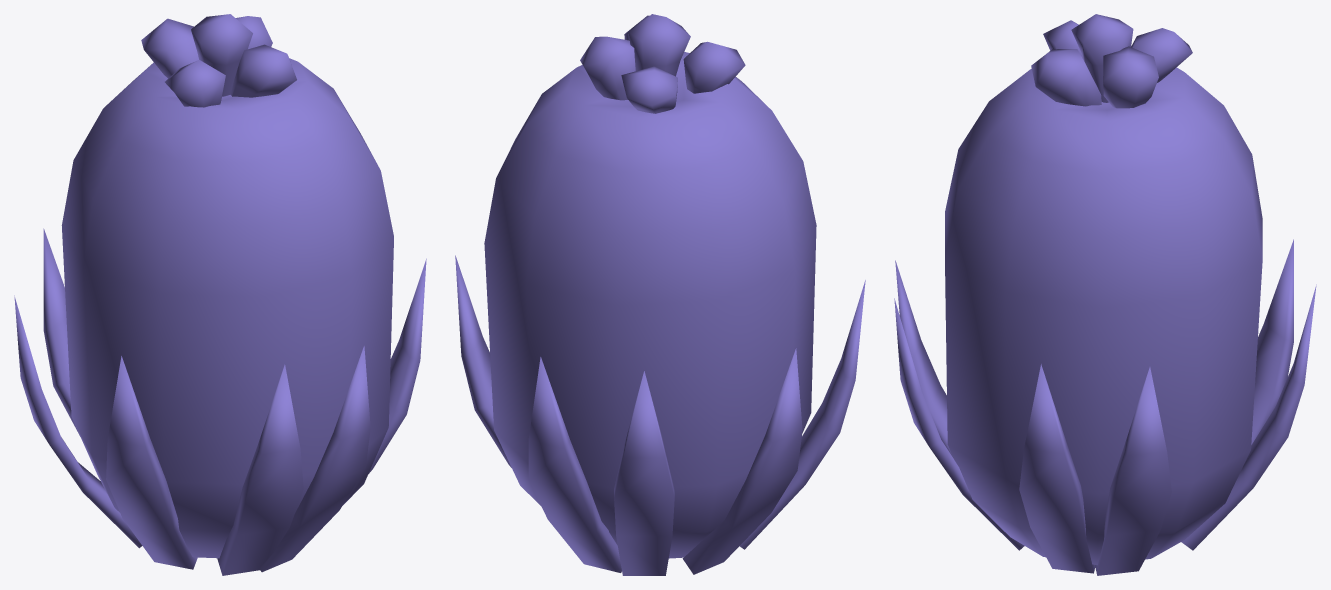
The model's file is Cactus_Short_01.fbx.
3 views of the same model, side by side, from view 1: azimuth 30°, elevation 25°; view 2: azimuth 150°, elevation 25°; view 3: azimuth 270°, elevation 25° (orthographic).
Parts seen in each view (by area): view 1: Cactus_Short_01; view 2: Cactus_Short_01; view 3: Cactus_Short_01.
Boxes of the visible parts, box(x1,y1,x2,y2) form: Cactus_Short_01: box(14, 14, 426, 575); Cactus_Short_01: box(455, 14, 865, 575); Cactus_Short_01: box(894, 14, 1316, 575).
Size of the model in its own units: 52.09 by 74.3 by 54.13.
